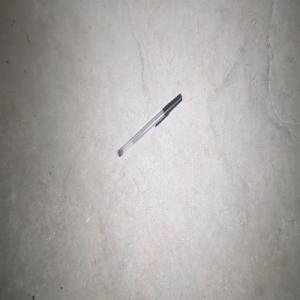Pen: (117, 93, 182, 157)
